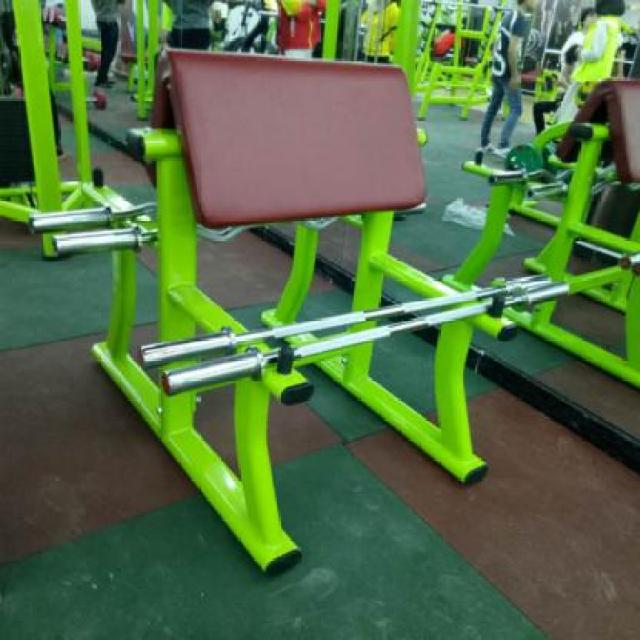arm curl machine: (49, 48, 523, 578)
